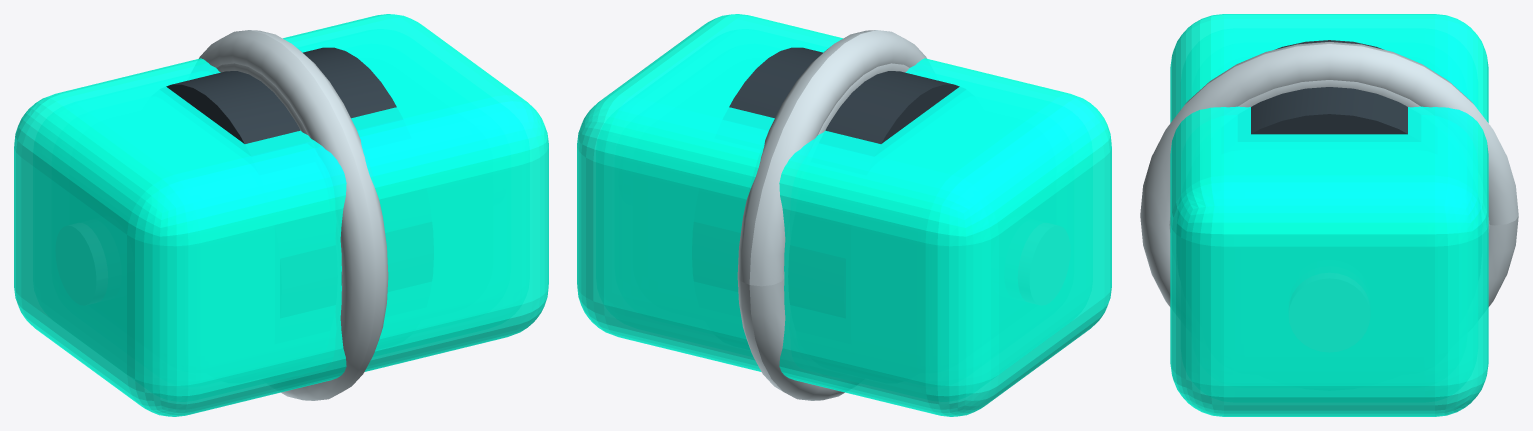
File: g4ed_alternator.glb
3 renders of one model, left to right at view 1: azimuth 30°, elevation 25°; view 2: azimuth 150°, elevation 25°; view 3: azimuth 270°, elevation 25°, orthographic.
Visible parts, largest first — view 1: asset_mesh__g4ed_300__reference_body, asset_mesh__g4ed_307__reference_body, asset_mesh__g4ed_293__reference_rim, asset_mesh__g4ed_314__reference_rotor, asset_mesh__g4ed_292__reference_rim; view 2: asset_mesh__g4ed_300__reference_body, asset_mesh__g4ed_307__reference_body, asset_mesh__g4ed_293__reference_rim, asset_mesh__g4ed_314__reference_rotor, asset_mesh__g4ed_292__reference_rim; view 3: asset_mesh__g4ed_300__reference_body, asset_mesh__g4ed_307__reference_body, asset_mesh__g4ed_293__reference_rim, asset_mesh__g4ed_314__reference_rotor, asset_mesh__g4ed_292__reference_rim.
Part boxes in pixels (x1=…): asset_mesh__g4ed_300__reference_body: x1=14, y1=14, x2=548, y2=416; asset_mesh__g4ed_307__reference_body: x1=14, y1=14, x2=548, y2=416; asset_mesh__g4ed_293__reference_rim: x1=199, y1=30, x2=388, y2=400; asset_mesh__g4ed_314__reference_rotor: x1=166, y1=47, x2=396, y2=144; asset_mesh__g4ed_292__reference_rim: x1=216, y1=63, x2=342, y2=285; asset_mesh__g4ed_300__reference_body: x1=577, y1=14, x2=1111, y2=416; asset_mesh__g4ed_307__reference_body: x1=577, y1=14, x2=1111, y2=416; asset_mesh__g4ed_293__reference_rim: x1=737, y1=30, x2=926, y2=400; asset_mesh__g4ed_314__reference_rotor: x1=729, y1=47, x2=959, y2=144; asset_mesh__g4ed_292__reference_rim: x1=783, y1=63, x2=909, y2=285; asset_mesh__g4ed_300__reference_body: x1=1170, y1=14, x2=1488, y2=416; asset_mesh__g4ed_307__reference_body: x1=1171, y1=14, x2=1487, y2=416; asset_mesh__g4ed_293__reference_rim: x1=1140, y1=42, x2=1518, y2=307; asset_mesh__g4ed_314__reference_rotor: x1=1251, y1=40, x2=1407, y2=134; asset_mesh__g4ed_292__reference_rim: x1=1169, y1=80, x2=1489, y2=232.
Size of the model in its own units: 1.61 by 1.27 by 1.27.
